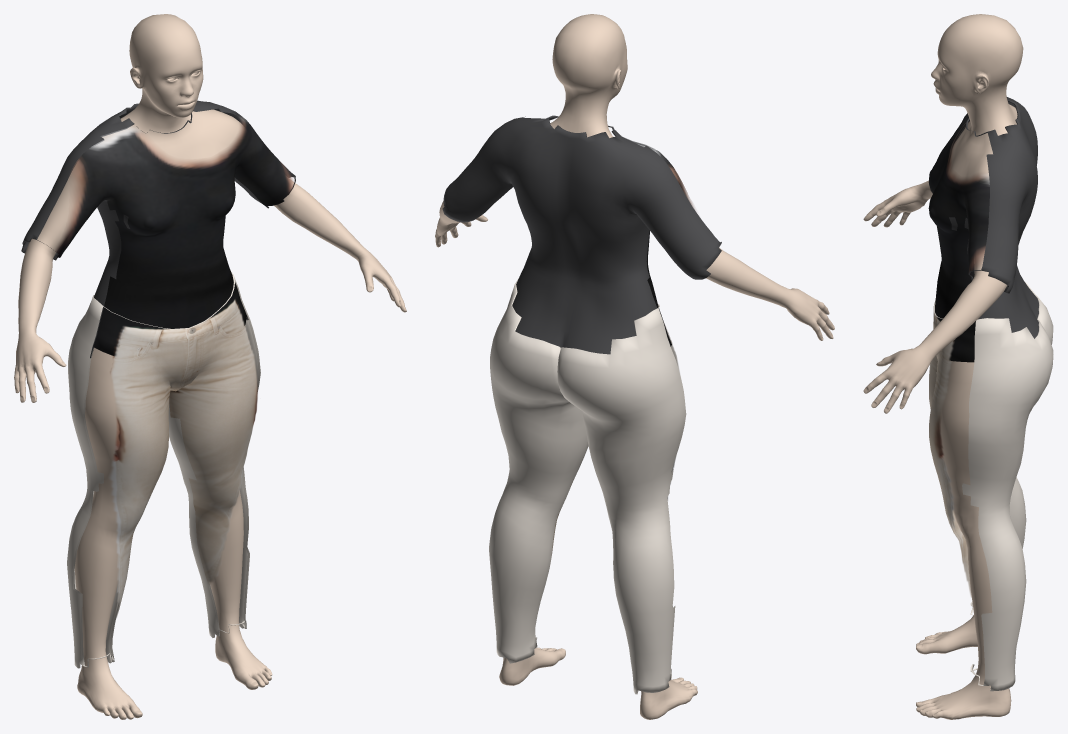
File: avatar_59762320f52e.glb
The picture shows the model from 3 angles, left to right: view 1: azimuth 30°, elevation 25°; view 2: azimuth 150°, elevation 25°; view 3: azimuth 270°, elevation 25°; orthographic projection.
Parts seen in each view (by area): view 1: Human_gen, garment_trousers, garment_tshirt; view 2: garment_trousers, garment_tshirt, Human_gen; view 3: Human_gen, garment_trousers, garment_tshirt.
Part boxes in pixels (x1,y1,x2,y2): Human_gen: (14,14,406,719); garment_trousers: (67,271,260,668); garment_tshirt: (21,100,295,358); garment_trousers: (489,278,686,694); garment_tshirt: (442,115,721,354); Human_gen: (435,14,834,719); Human_gen: (863,14,1023,719); garment_trousers: (929,281,1053,691); garment_tshirt: (928,97,1038,362).
Bounding box in the file's own units: 1.03 × 1.7 × 0.4408.
5 materials, 2 textured.
